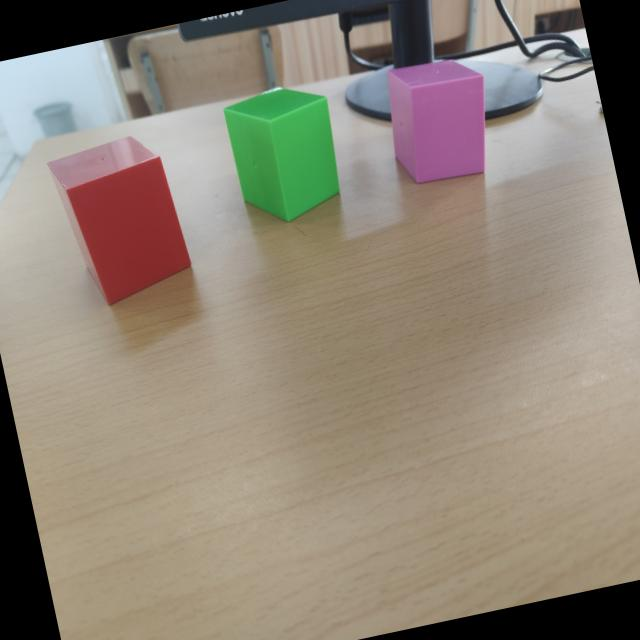green: (222, 88, 340, 223)
pink: (386, 61, 487, 185)
red: (47, 137, 191, 306)
